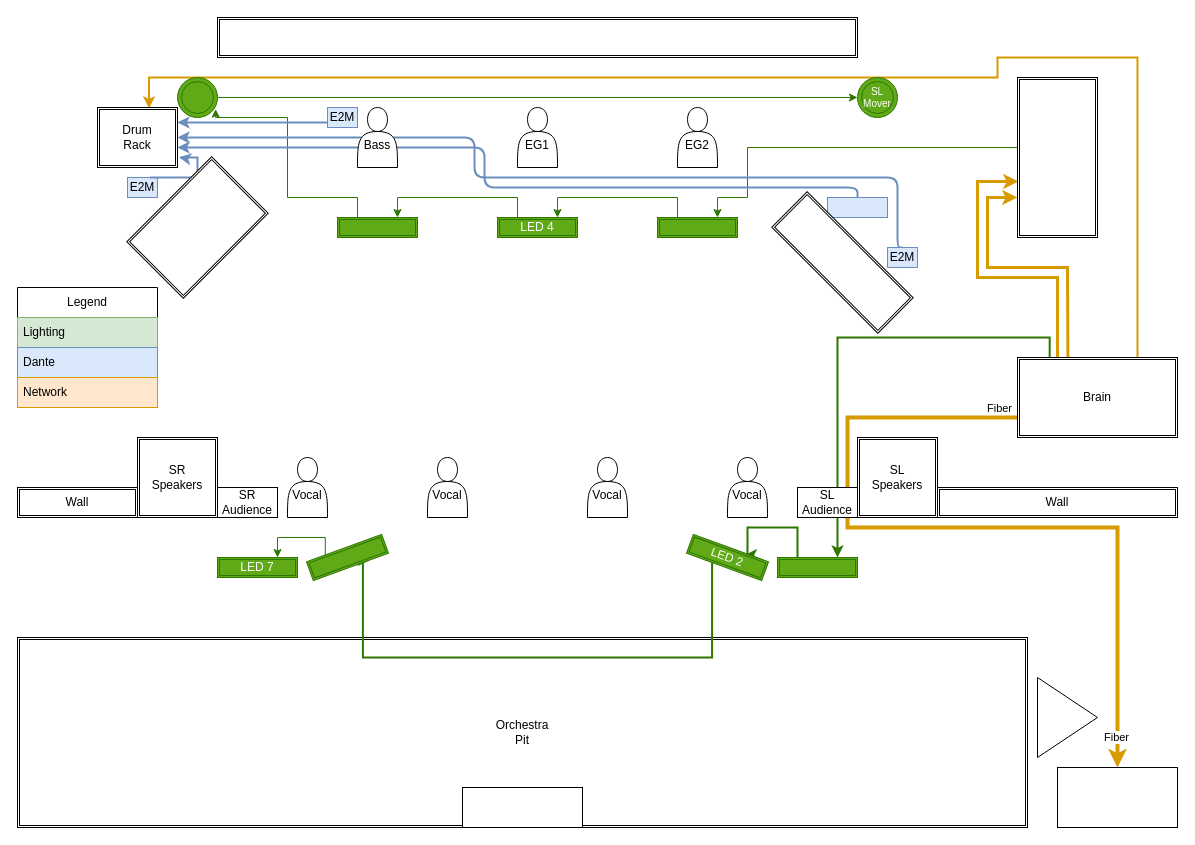
Some shapes in this 1195 by 845 pixel diagram are drawn without their labels. The shapes that lost their labels are listed below. From the top down, each one's centre as x and y in pixels, then its label:
(x=537, y=37): LED Wall
(x=197, y=97): SR Mover
(x=1057, y=157): LED Rack
(x=197, y=227): Drums
(x=377, y=227): LED 5
(x=697, y=227): LED 3
(x=857, y=207): Laptop
(x=842, y=262): Keys
(x=347, y=557): LED 6
(x=817, y=567): LED 1
(x=1067, y=717): Mic Antenna
(x=522, y=807): Confidence Montor
(x=1117, y=797): To Front of House
